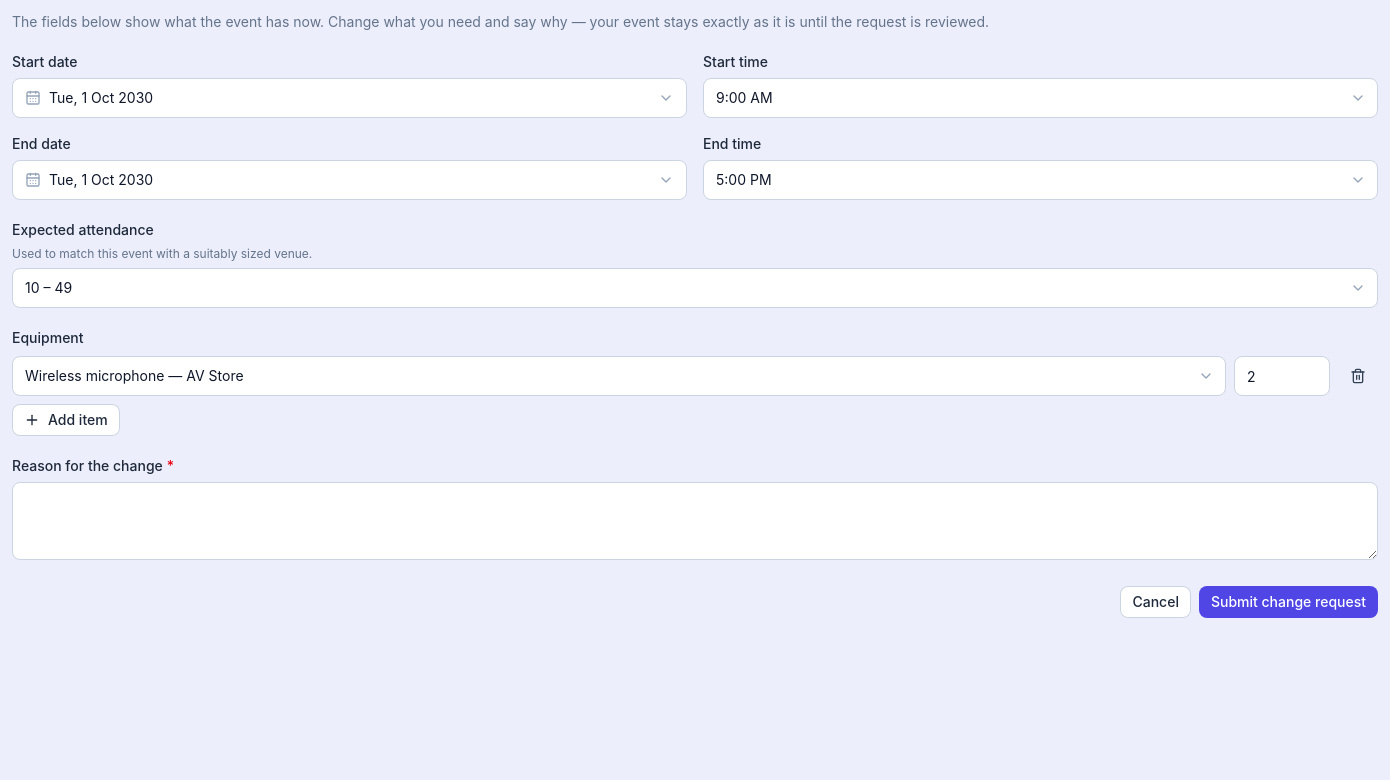
US-36 AC-1, AC-2: a reason and a real change are required › asks for a reason and for at least one change, and sends nothing
This screenshot has width=1390, height=780.
Click the button "Submit change request" at (1288, 602), box [1199,586,1378,618]
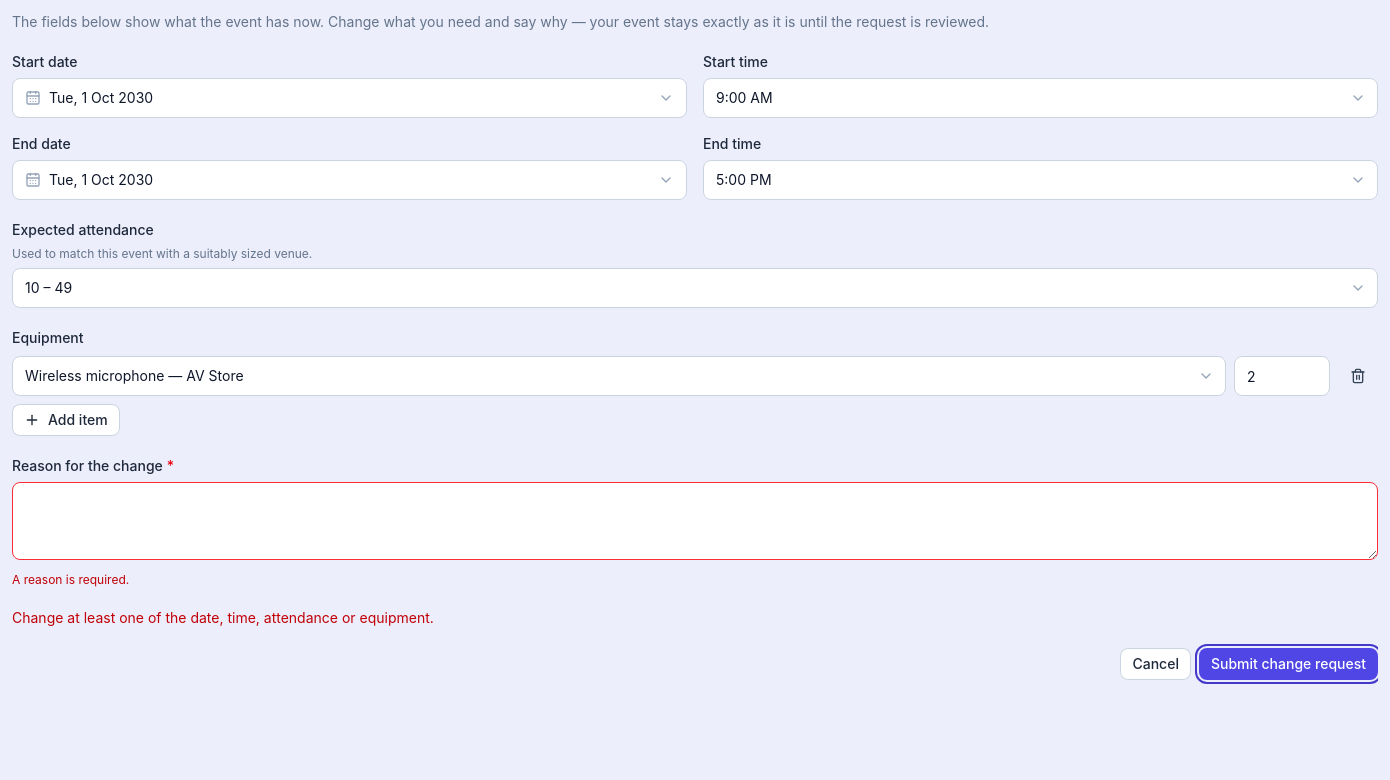
expect the list item "A reason is required." is shown: met, box [12,572,129,587]
expect the message reads "Change at least one of the date, time, attendance or equipment.": met, box [12,609,434,626]
